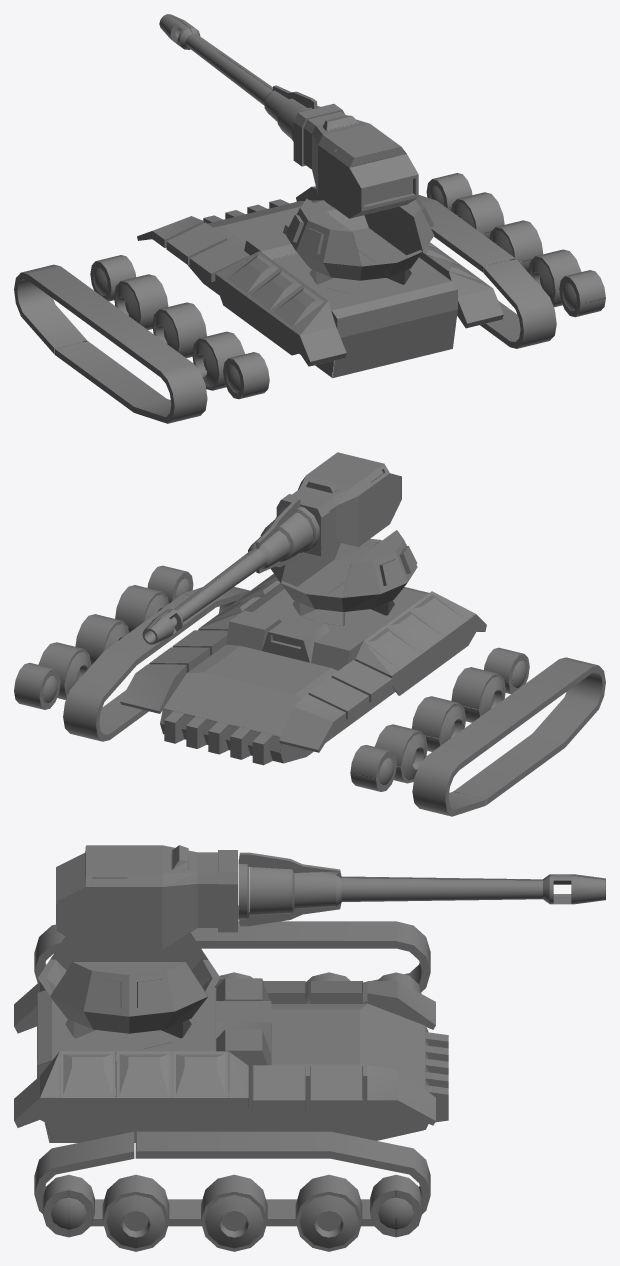
The model's file is Ballista_exploded.FBX.
3 renders of one model, top to bottom at view 1: azimuth 30°, elevation 25°; view 2: azimuth 150°, elevation 25°; view 3: azimuth 270°, elevation 25°, orthographic. The views are drawn at different scales.
Parts seen in each view (by area): view 1: U3DMesh, trackr, mantlet_1, turret, trackr01, barrel_1, wheel3, wheel2, wheel4, wheel5, wheel10, wheel9 (+4 smaller); view 2: U3DMesh, trackr, mantlet_1, turret, trackr01, barrel_1, wheel4, wheel3, wheel2, wheel1, wheel6, wheel7 (+4 smaller); view 3: U3DMesh, mantlet_1, trackr01, turret, trackr, barrel_1, wheel7, wheel9, wheel8, wheel6, wheel10.
Boxes of the visible parts, bbox=[...] form: U3DMesh: bbox=[137, 186, 503, 378]; trackr: bbox=[14, 264, 207, 423]; mantlet_1: bbox=[264, 85, 418, 218]; turret: bbox=[286, 198, 434, 280]; trackr01: bbox=[415, 195, 556, 348]; barrel_1: bbox=[159, 14, 272, 105]; wheel3: bbox=[152, 302, 206, 357]; wheel2: bbox=[114, 274, 168, 329]; wheel4: bbox=[192, 331, 244, 390]; wheel5: bbox=[223, 352, 269, 399]; wheel10: bbox=[559, 270, 605, 317]; wheel9: bbox=[528, 249, 581, 307]; U3DMesh: bbox=[120, 574, 486, 765]; trackr: bbox=[412, 657, 605, 816]; mantlet_1: bbox=[248, 452, 401, 573]; turret: bbox=[270, 530, 417, 611]; trackr01: bbox=[63, 586, 249, 741]; barrel_1: bbox=[142, 548, 266, 644]; wheel4: bbox=[451, 667, 505, 722]; wheel3: bbox=[411, 696, 465, 751]; wheel2: bbox=[374, 724, 427, 783]; wheel1: bbox=[350, 745, 396, 791]; wheel6: bbox=[14, 663, 60, 709]; wheel7: bbox=[38, 642, 91, 699]; U3DMesh: bbox=[14, 977, 448, 1142]; mantlet_1: bbox=[56, 845, 341, 949]; trackr01: bbox=[34, 1131, 430, 1226]; turret: bbox=[38, 932, 220, 1033]; trackr: bbox=[34, 921, 430, 1003]; barrel_1: bbox=[341, 874, 605, 904]; wheel7: bbox=[295, 1174, 362, 1251]; wheel9: bbox=[102, 1174, 169, 1251]; wheel8: bbox=[201, 1174, 267, 1251]; wheel6: bbox=[370, 1174, 422, 1237]; wheel10: bbox=[42, 1174, 94, 1237].
Bounding box in the file's own units: 79.89 × 39.15 × 75.38.
Materials: 1 (1 with a texture image).
